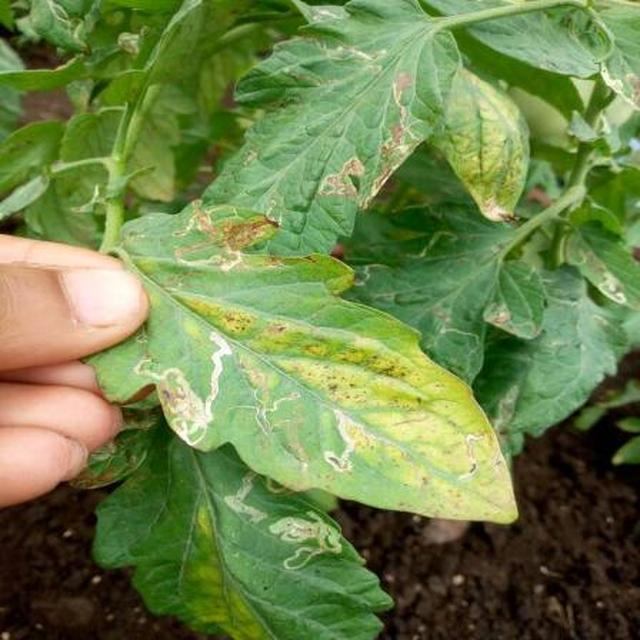Leaf Miner: (344, 276, 621, 640)
